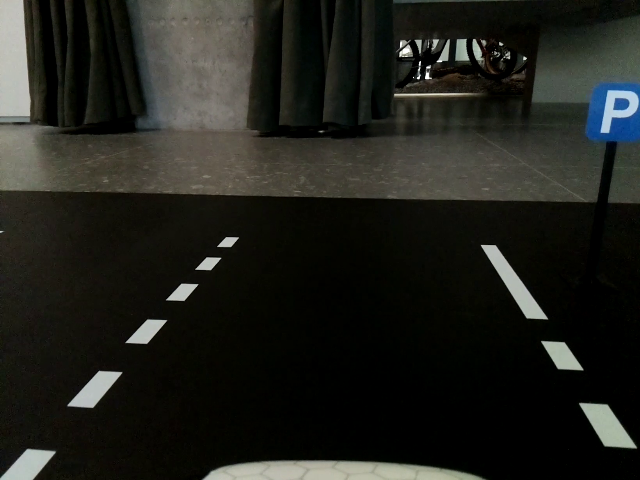park: (587, 85, 640, 139)
